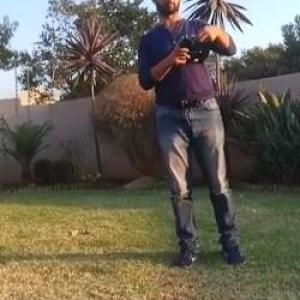follow: (128, 0, 251, 273)
